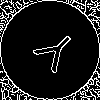Y: (25, 25, 82, 81)
